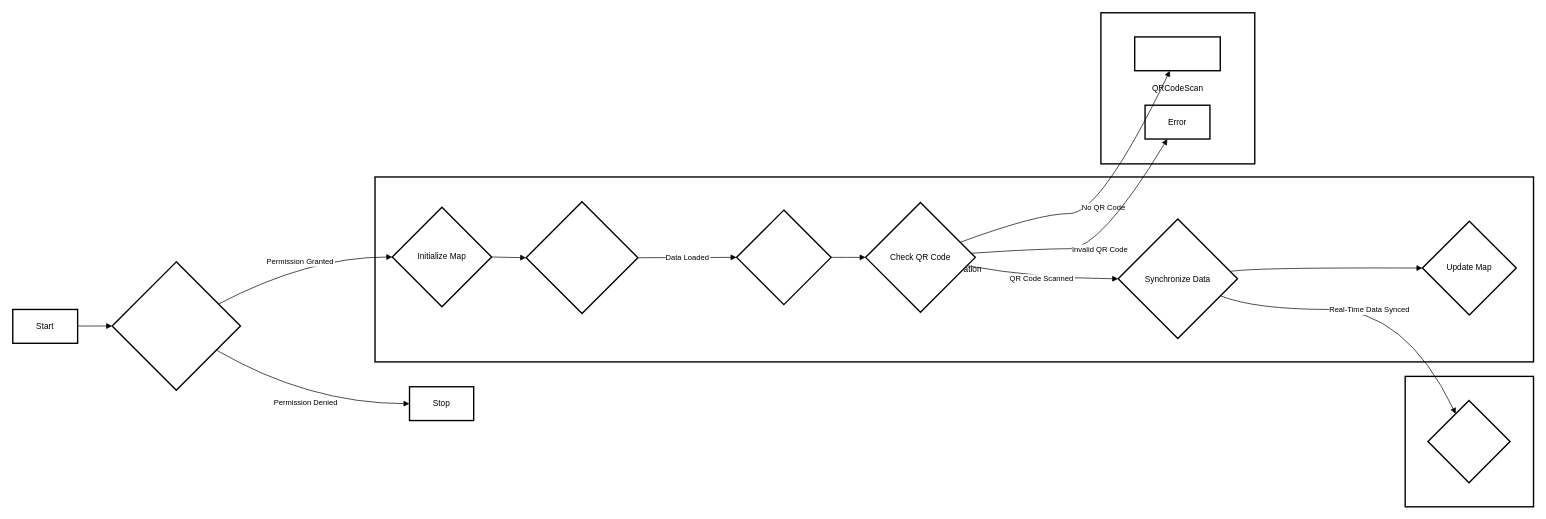
Some shapes in this 1546 by 519 pixel diagram are drawn without their labels. The centre of each missing label's shape, as x and y in pixels:
"Check Permissions" belongs at point (176, 326).
"Continue" belongs at point (1177, 53).
"Display Map" belongs at point (783, 257).
"Fetch Map Data" belongs at point (581, 257).
"Update UI" belongs at point (1468, 441).
